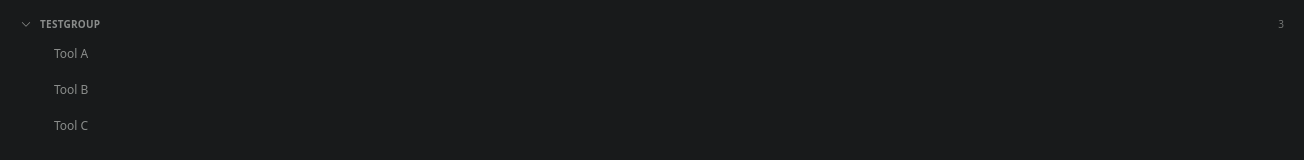
Test: SidebarGroup — group collapse & keyboard nav › collapses when the header is clicked and sets aria-expanded=false
The width and height of the screenshot is (1304, 160).
Step 1. Click the button "TestGroup 3" → (70, 24), box x1=12 y1=13 x2=1292 y2=35
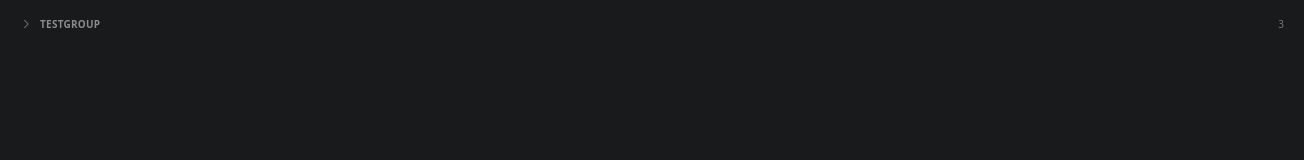
Check: the button "TestGroup 3" is collapsed, box x1=12 y1=13 x2=1292 y2=35
